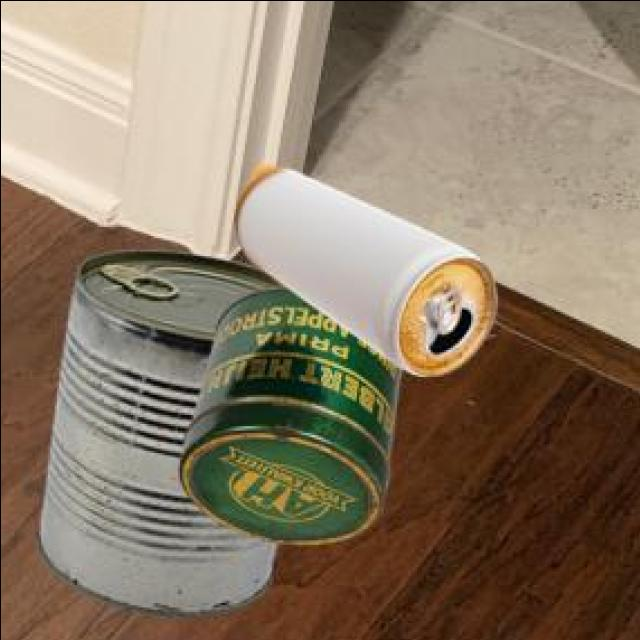logam: (35, 247, 279, 612), (176, 283, 397, 540), (232, 160, 493, 373)
